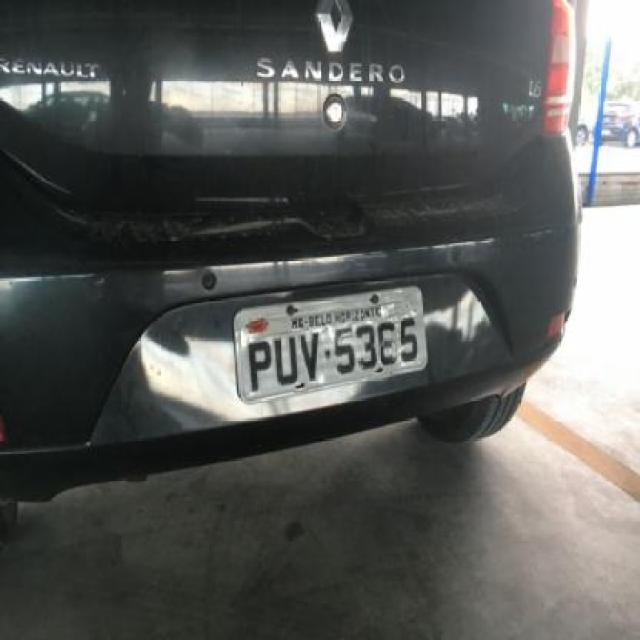old_plate: (228, 281, 432, 408)
